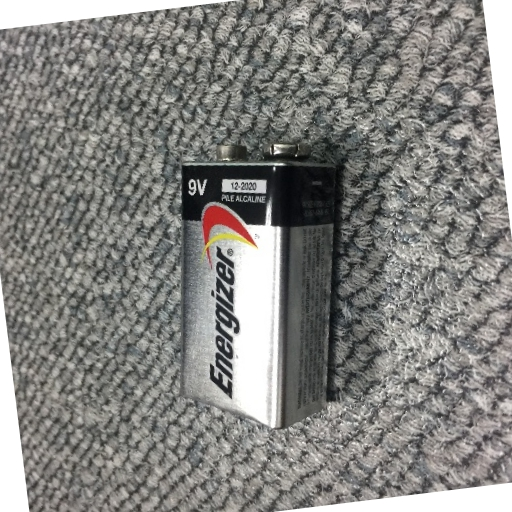Battery_3: (167, 125, 354, 442)
